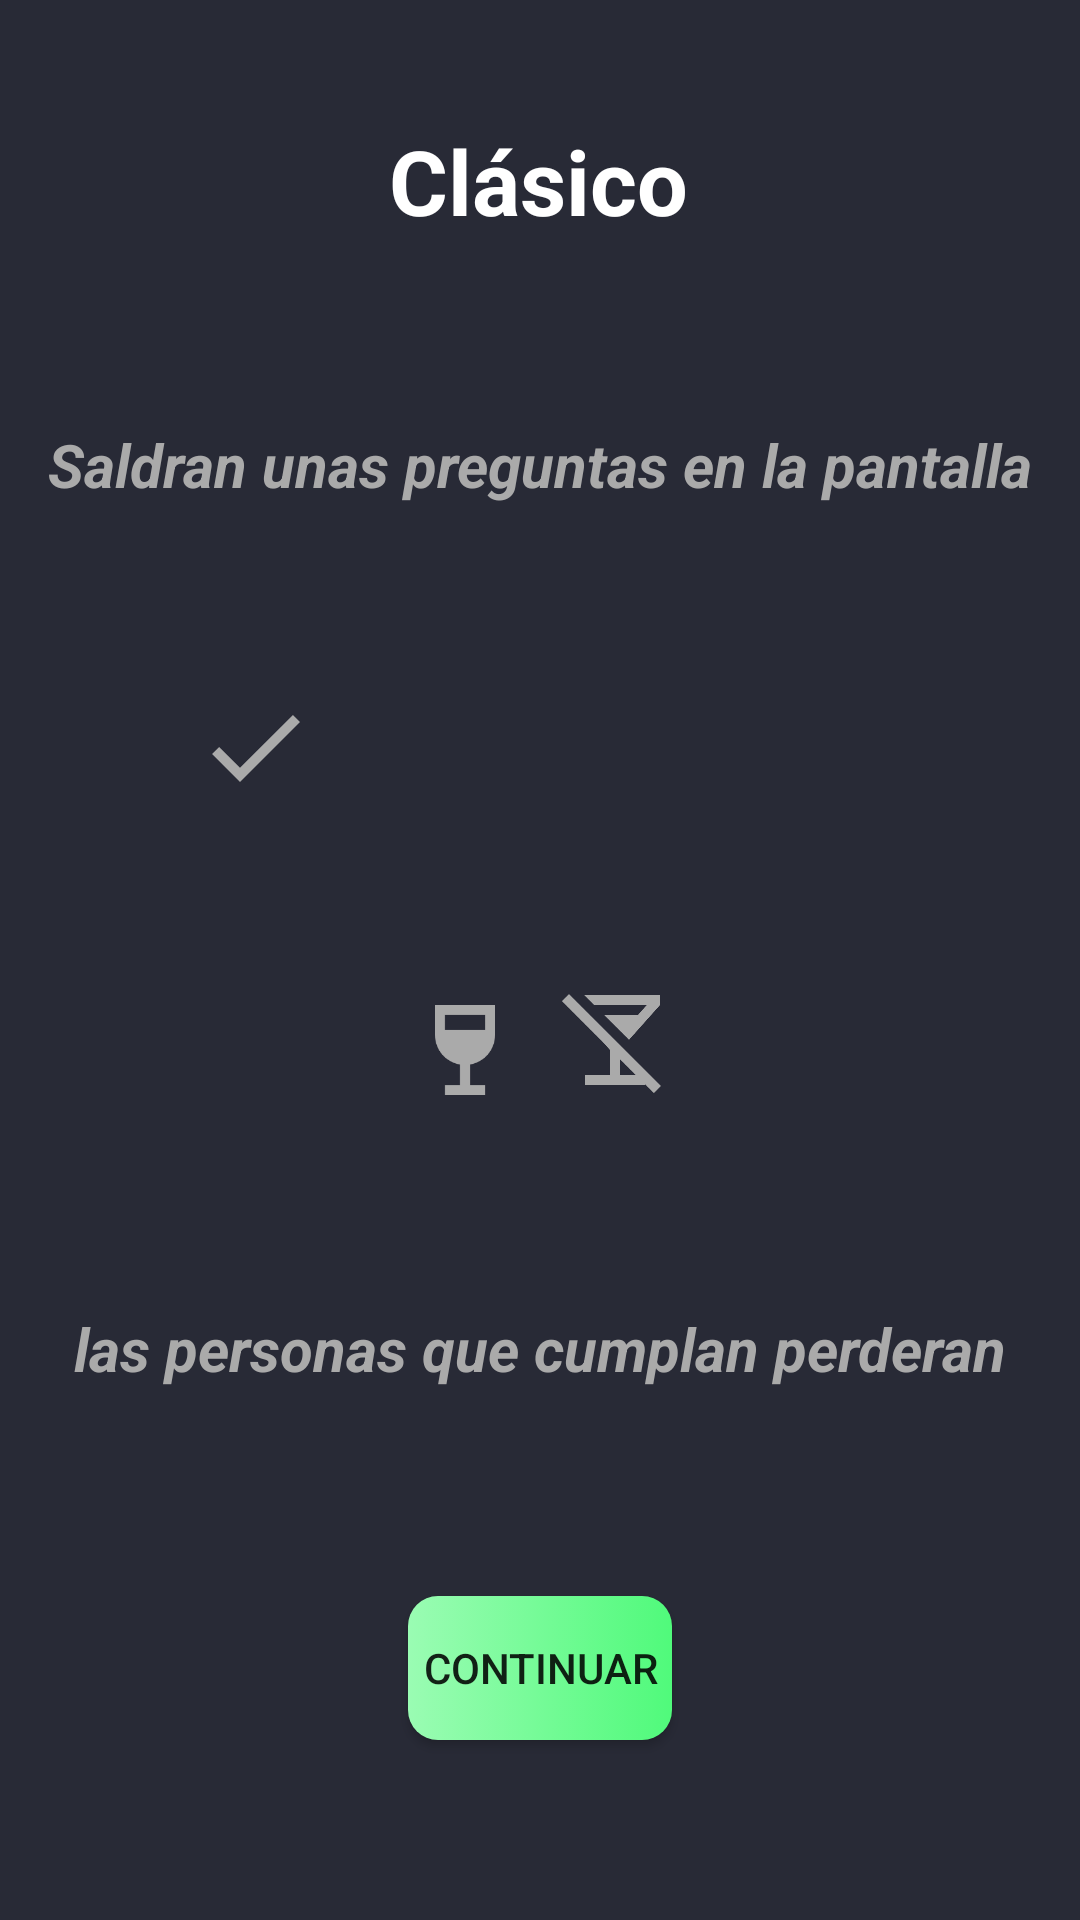

Where to tap for icons on this 1080×1920 app screen, as (x=x, y=y):
check: (x=256, y=748)
no drinks: (x=611, y=1043)
wine bar: (x=465, y=1050)
